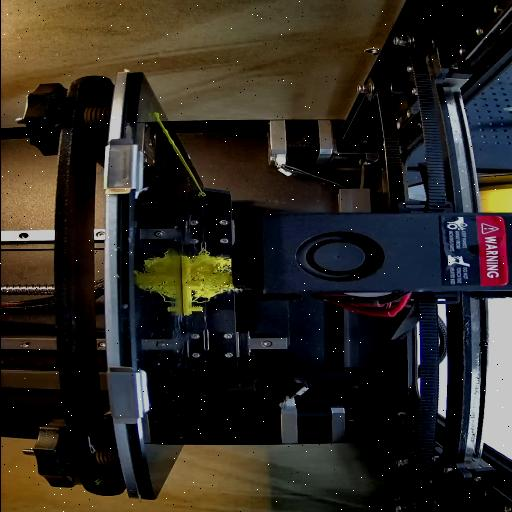spaghetti: (190, 248, 240, 302)
